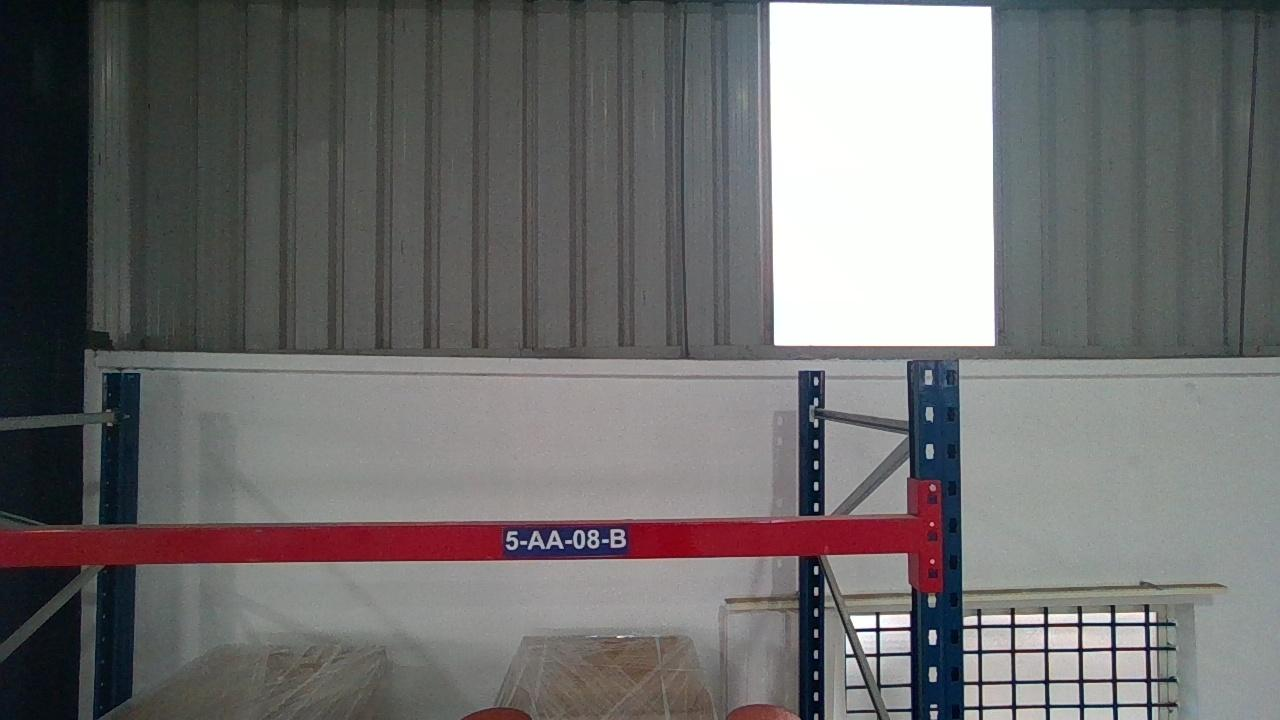h_rack: (1, 522, 922, 564)
